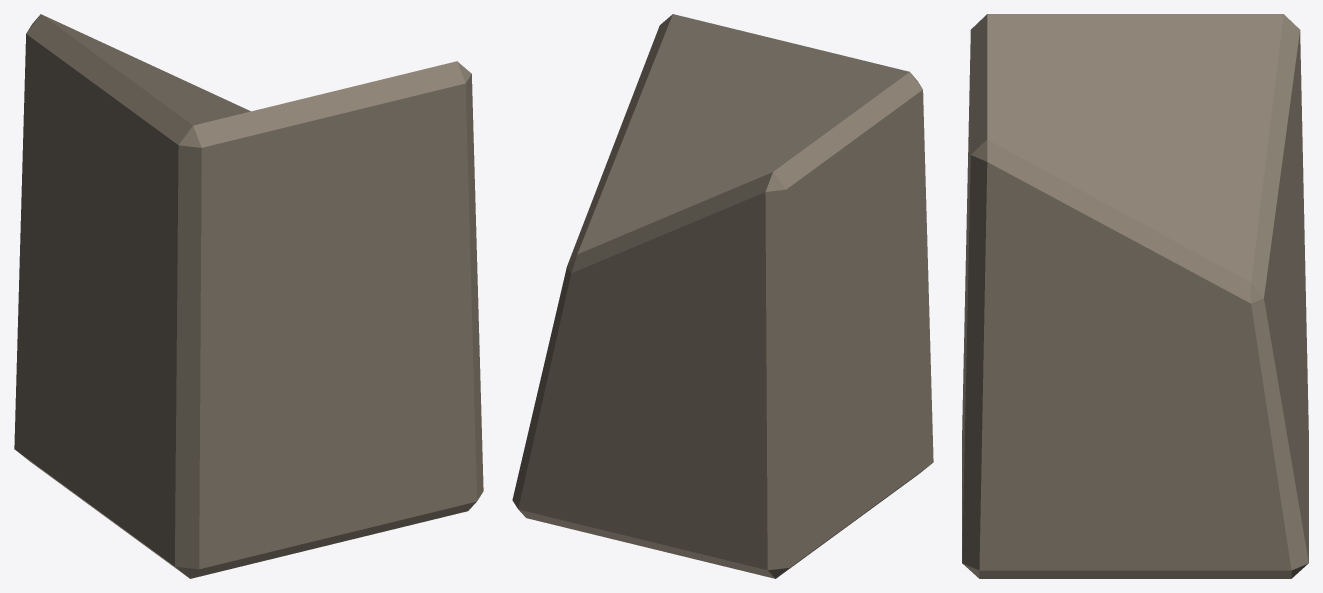
File: terrain_stone.3.glb
3 views of the same model, side by side, from view 1: azimuth 30°, elevation 25°; view 2: azimuth 150°, elevation 25°; view 3: azimuth 270°, elevation 25° (orthographic). The views are drawn at different scales.
Visible parts, largest first — view 1: terrain_stone.3; view 2: terrain_stone.3; view 3: terrain_stone.3.
Boxes of the visible parts, x1,y1,x2,y2 form: terrain_stone.3: [14, 14, 483, 578]; terrain_stone.3: [512, 14, 933, 578]; terrain_stone.3: [962, 14, 1308, 578].
Size of the model in its own units: 0.9 by 1.25 by 0.9.
